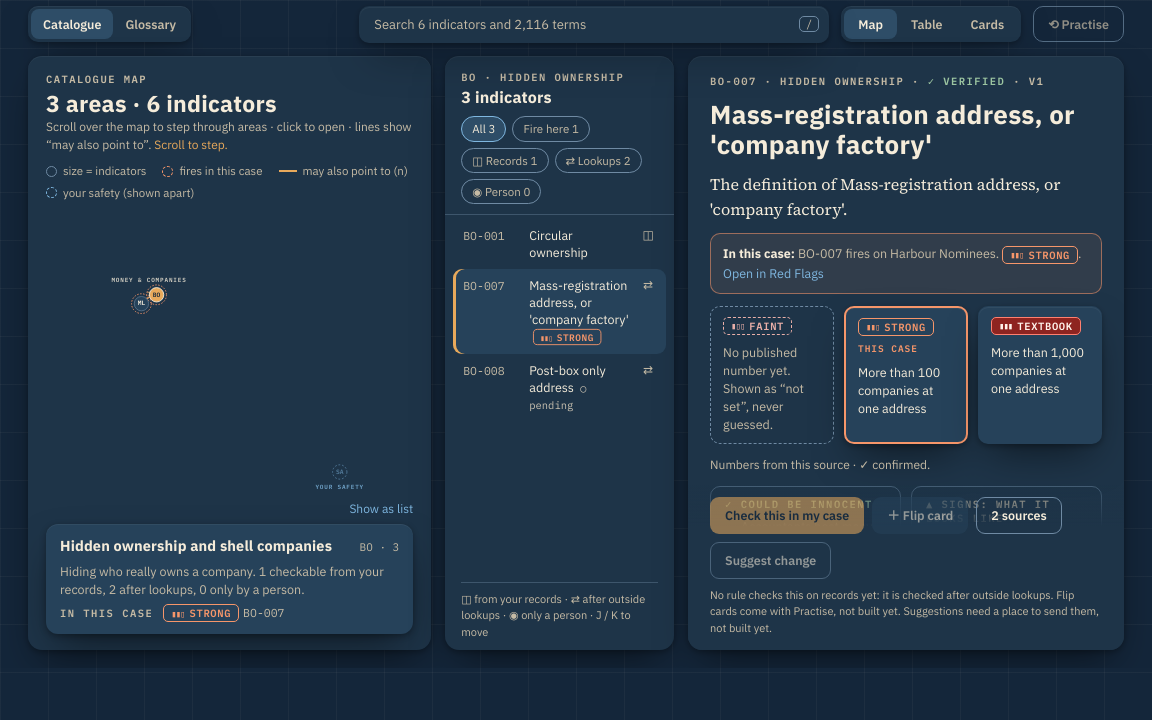
Scenario: Learn › Red Flags catalogue › finds indicators from the search box and opens them
Expected: the list named "Areas, in families" is shown, [46,205,413,498]
In the dropdown named "Search indicators and terms": (594, 24) [359,6,829,42], type "threats"
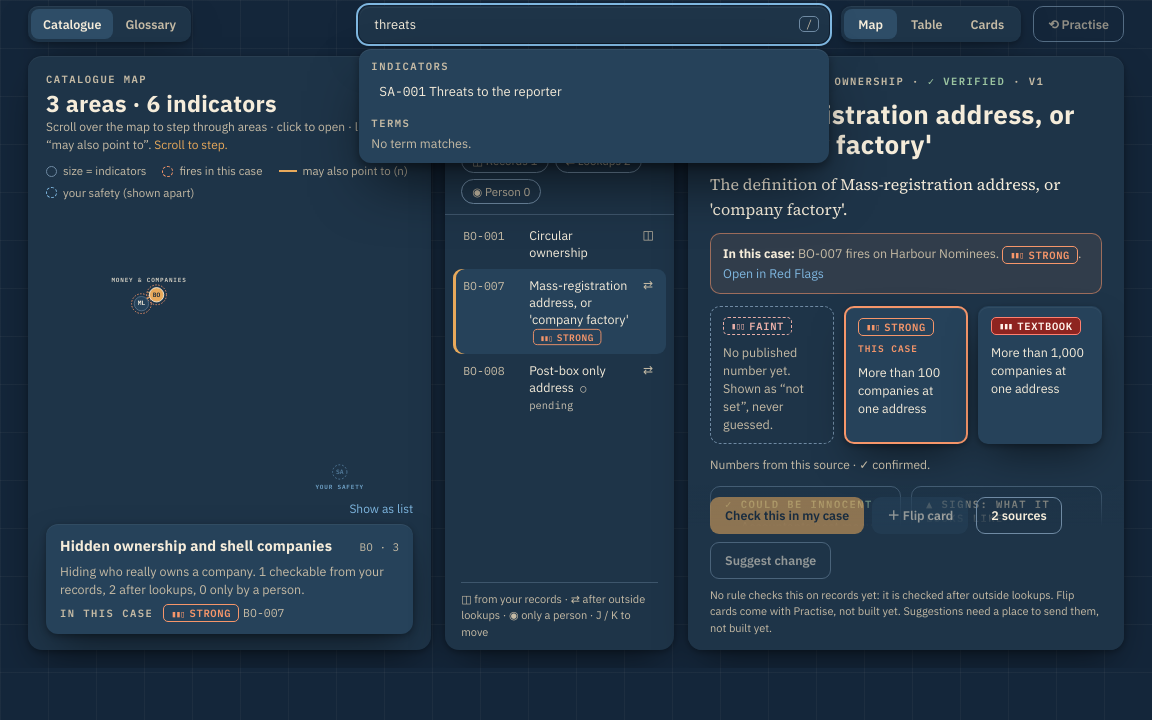
Click the button "SA-001 Threats to the reporter": (471, 91) [371,76,570,106]
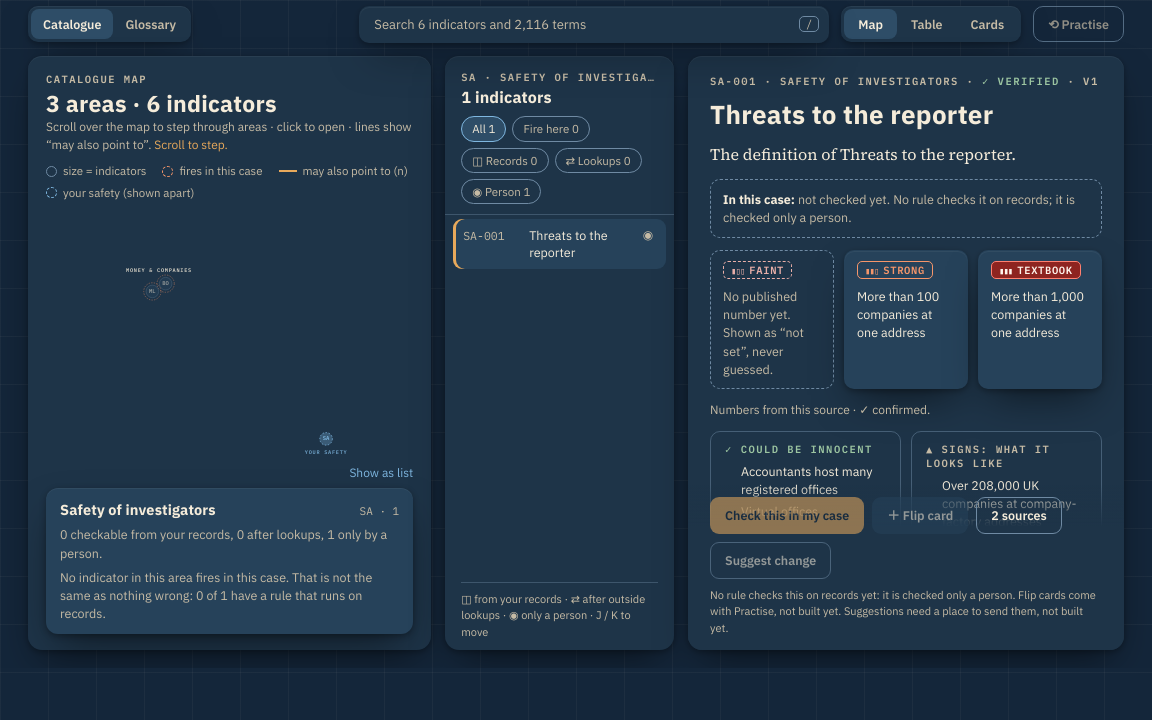
Expected: the element named "Indicator SA-001" is shown, [688,56,1124,650]
